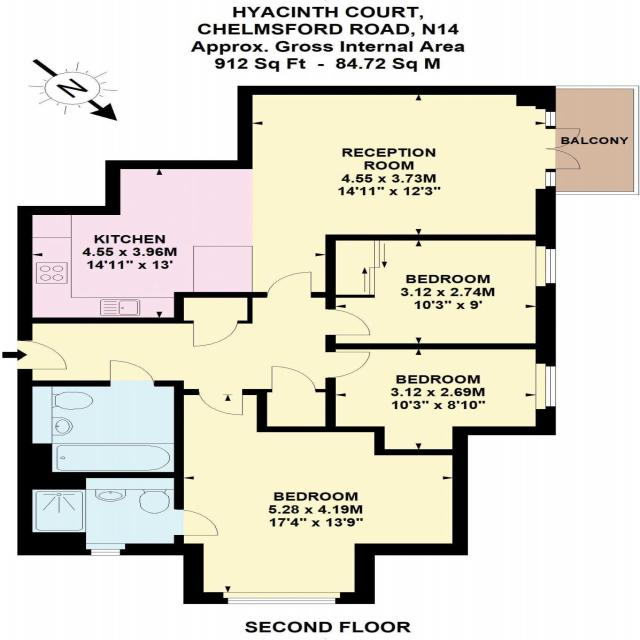DOOR: (17, 339, 69, 371), (106, 359, 156, 387), (173, 508, 221, 537), (263, 271, 313, 298), (197, 388, 245, 416), (324, 351, 372, 379), (325, 308, 372, 336)
DOUBLE DOOR: (544, 128, 582, 170)
ROOM: (20, 86, 585, 325), (173, 389, 469, 606), (324, 234, 556, 350), (325, 343, 557, 456)
WINDOW: (221, 592, 343, 605), (535, 363, 557, 410), (535, 245, 557, 287), (85, 543, 127, 556), (545, 111, 556, 127), (545, 171, 556, 187)
